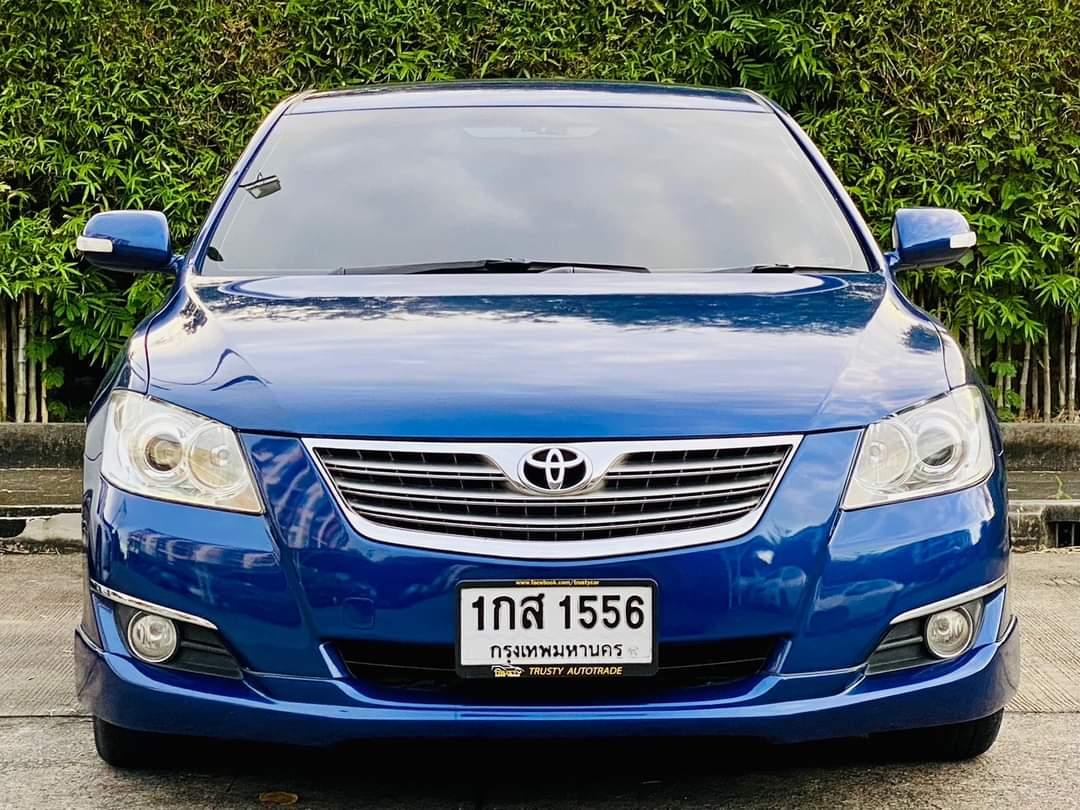license-plate: (454, 574, 661, 683)
